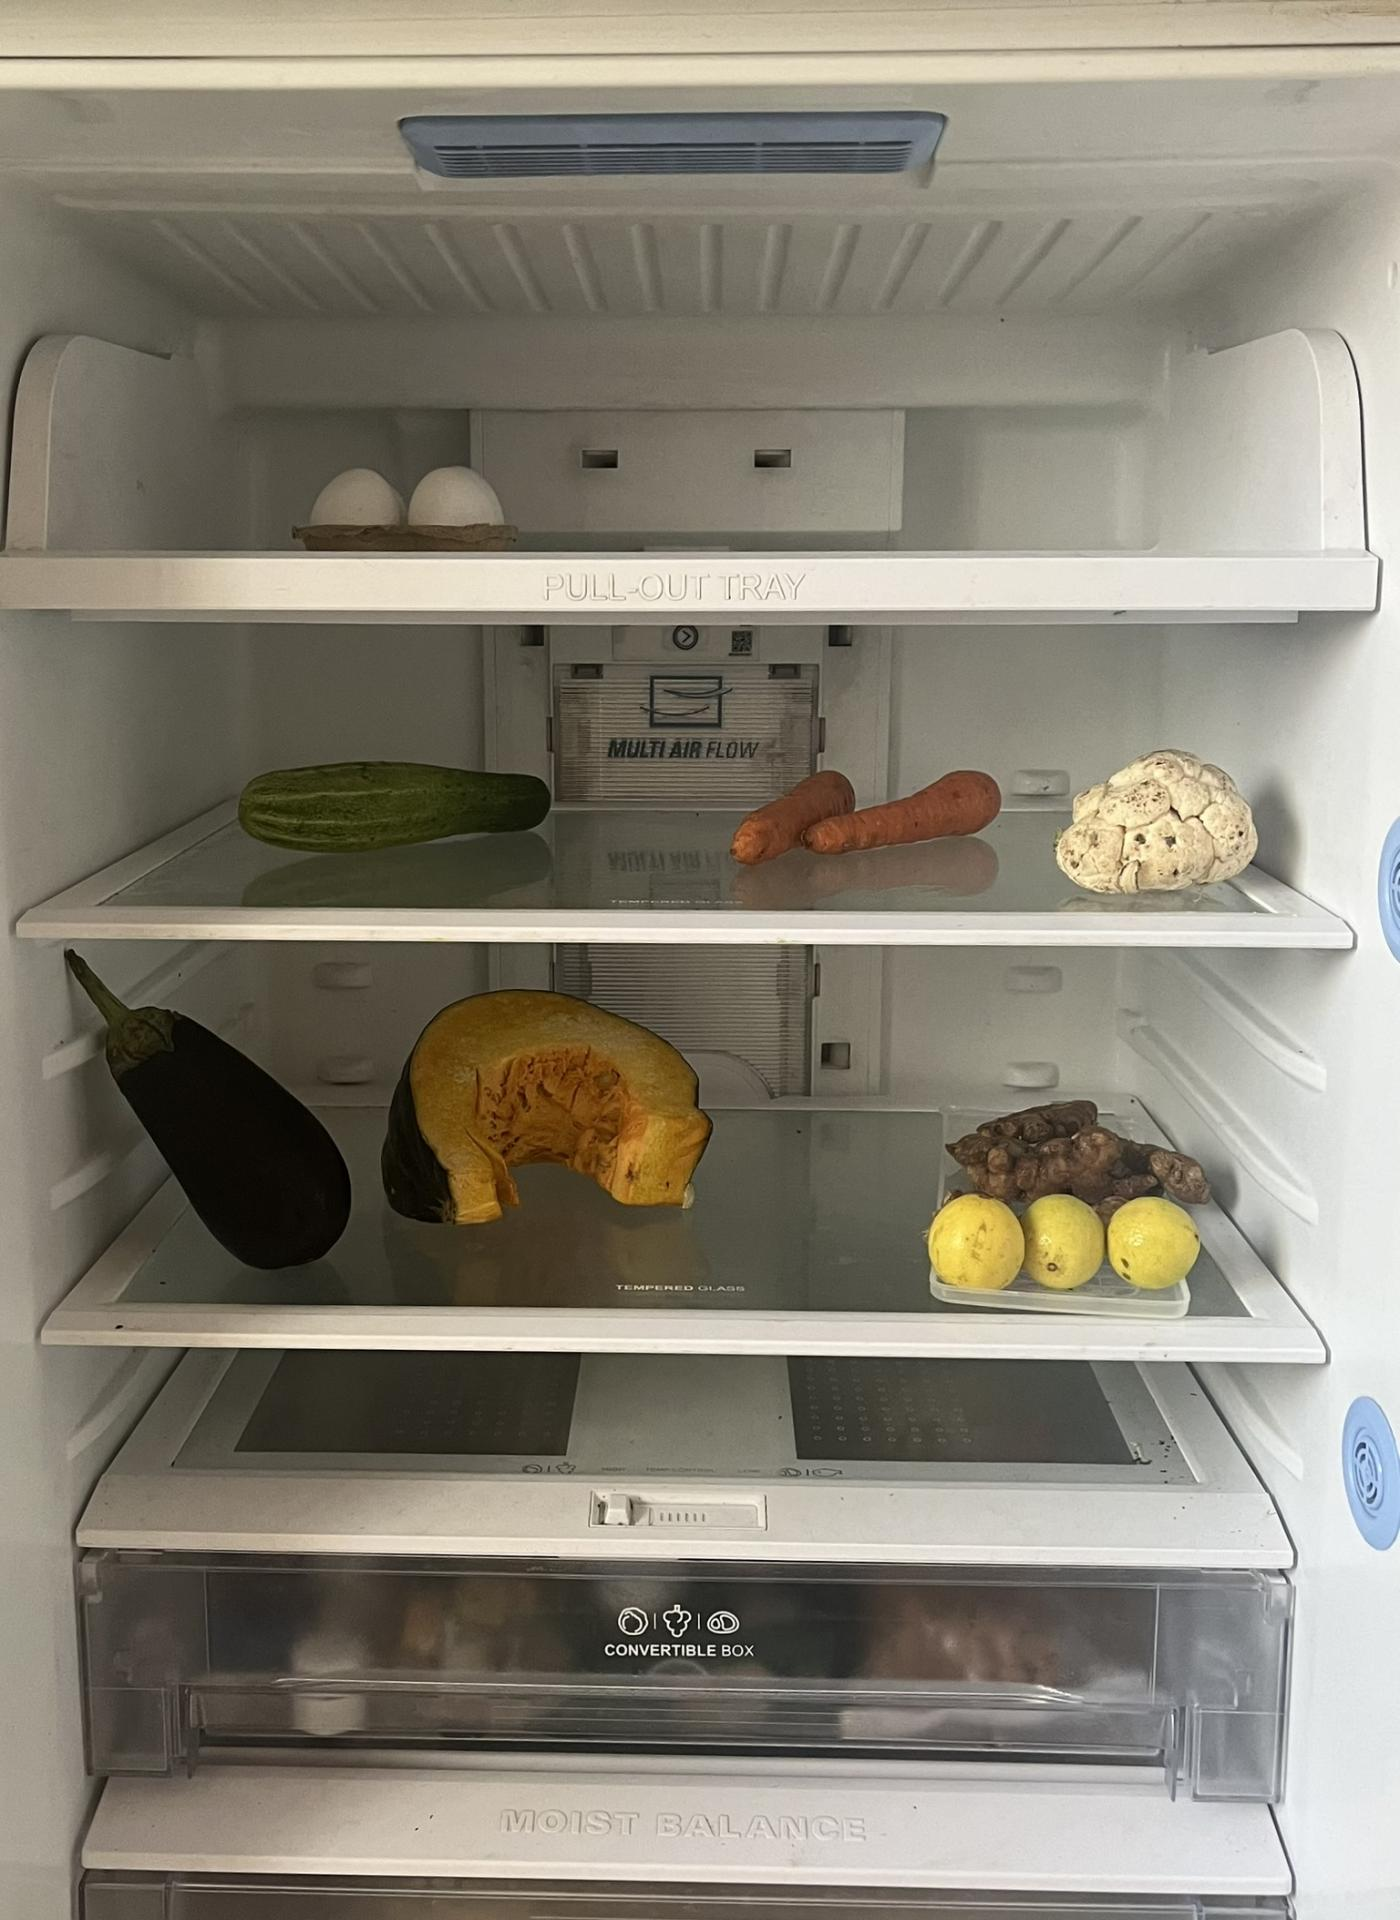brinjal: (72, 954, 353, 1270)
carrots: (725, 768, 1009, 869)
cauliflower: (1051, 751, 1261, 894)
cucumber: (239, 766, 561, 853)
egg: (306, 464, 517, 556)
ginger: (932, 1094, 1218, 1216)
lemon: (920, 1188, 1211, 1292)
pumpkin: (376, 976, 710, 1216)
